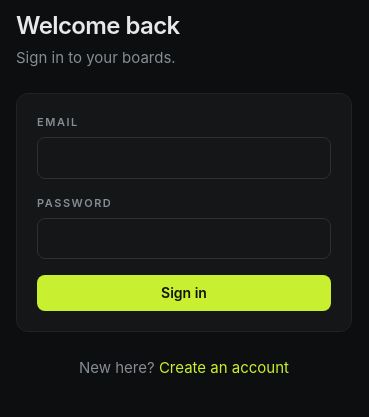
the login page › posts the credentials and the return URL, and shows the error the action sends back
Type "ada@example.test" into the field labelled "Email" at (184, 158), box [37,137,331,179]
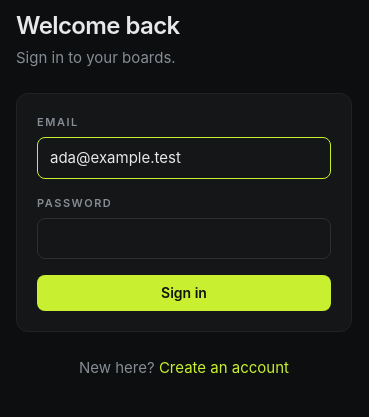
Type "not it" into the password field labelled "Password" at (184, 238), box [37,218,331,259]
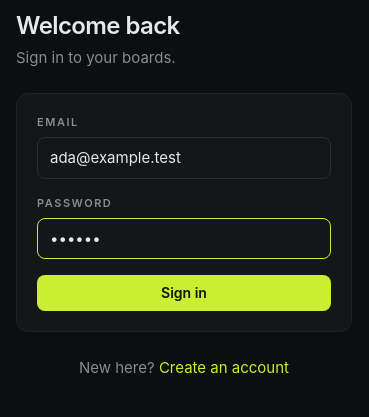
Click the button "Sign in" at (184, 293), box [37,275,331,311]
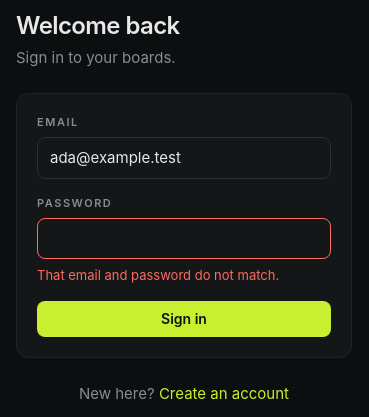
Result: the text "That email and password do not match." is shown at [37,267,279,283]
